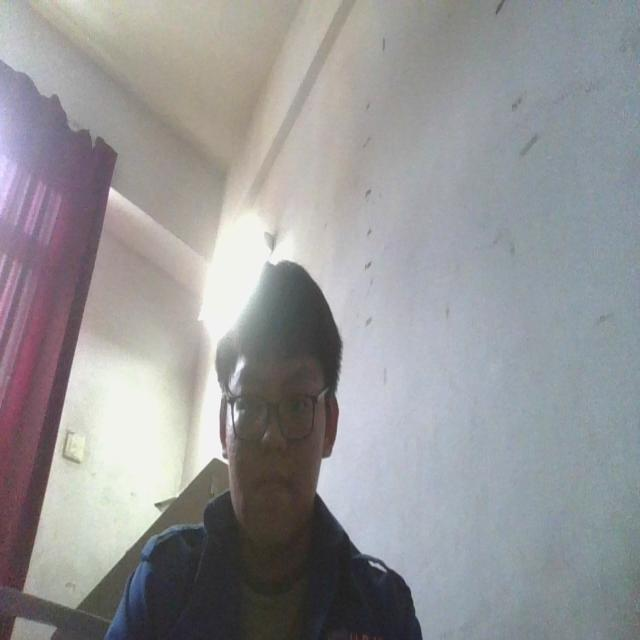person_with_labcoat: (106, 262, 422, 639)
